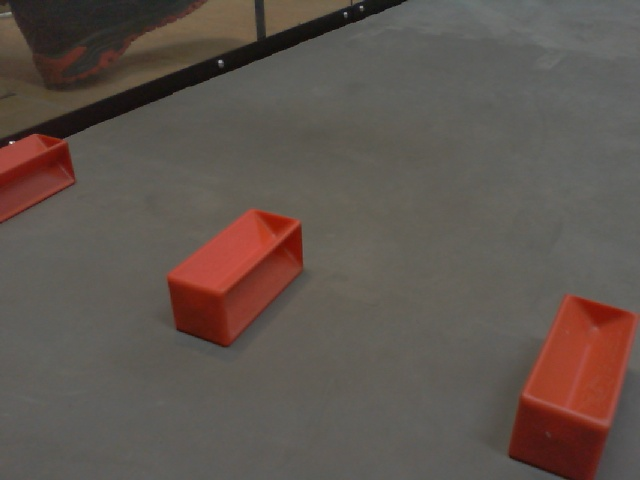RedSample: (506, 290, 639, 480), (166, 207, 306, 348), (1, 129, 80, 223)
